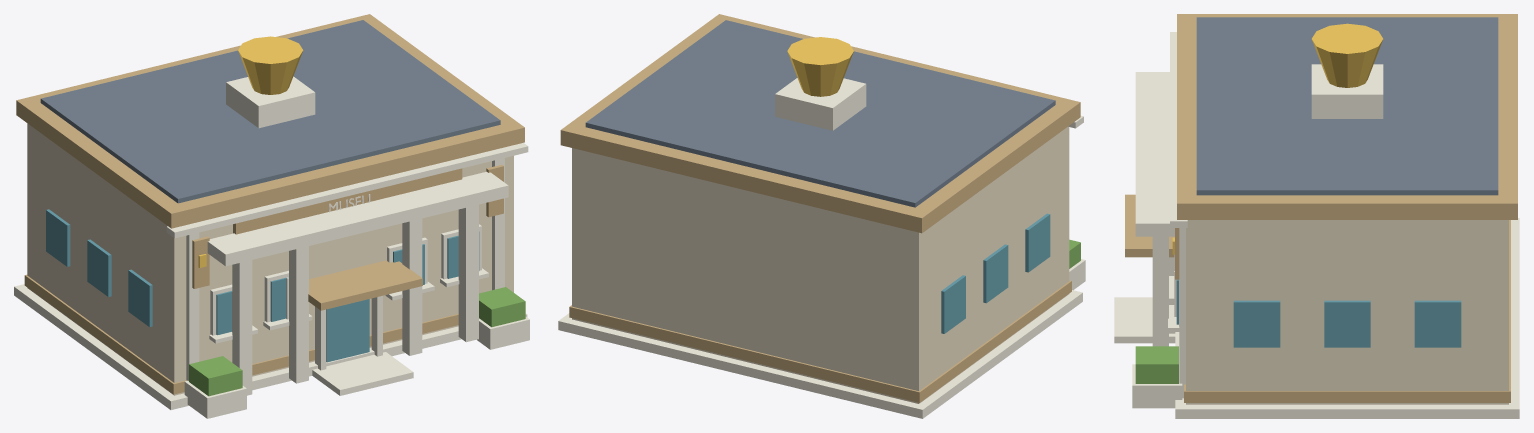
The model's file is museu.glb.
3 renders of one model, left to right at view 1: azimuth 30°, elevation 25°; view 2: azimuth 150°, elevation 25°; view 3: azimuth 270°, elevation 25°, orthographic. The views are drawn at different scales.
Parts seen in each view (by area): view 1: Foundation; view 2: Foundation; view 3: Foundation.
Part boxes in pixels (bbox=[...]): Foundation: bbox=[14, 14, 529, 418]; Foundation: bbox=[558, 14, 1085, 418]; Foundation: bbox=[1114, 14, 1519, 418].
Bounding box in the file's own units: 12.6 × 8.75 × 11.3.
